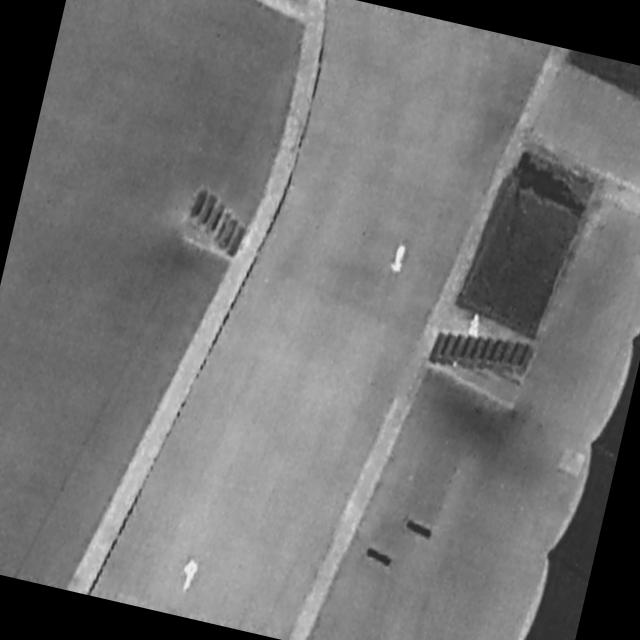person: (179, 557, 201, 595), (389, 241, 411, 275), (468, 312, 484, 339)
